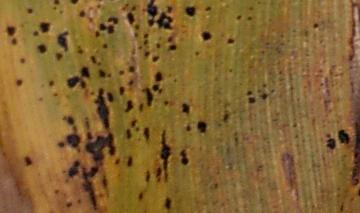tarspot: (83, 130, 117, 165), (80, 165, 100, 212), (91, 87, 111, 130), (159, 128, 172, 182), (350, 121, 360, 185), (65, 125, 83, 154), (155, 11, 174, 31), (145, 1, 159, 27), (336, 127, 350, 145), (57, 30, 69, 51), (67, 160, 80, 178), (178, 148, 190, 166), (144, 86, 154, 107), (196, 120, 208, 134), (183, 6, 197, 18), (65, 75, 79, 87), (199, 30, 212, 42), (39, 20, 50, 34), (79, 66, 91, 78), (325, 137, 336, 150), (123, 99, 134, 112), (164, 195, 172, 212), (126, 11, 135, 26), (180, 102, 191, 114), (105, 90, 115, 103), (154, 166, 162, 182), (142, 126, 150, 142), (101, 174, 109, 190), (151, 83, 163, 93), (106, 24, 116, 35), (23, 155, 33, 166), (154, 70, 163, 82), (106, 16, 118, 25), (37, 44, 46, 55), (89, 55, 98, 66), (126, 154, 133, 168), (124, 127, 132, 139), (144, 169, 151, 182), (66, 115, 76, 124), (120, 3, 130, 12), (117, 85, 125, 96), (6, 25, 14, 36), (222, 111, 229, 123), (338, 201, 345, 213), (54, 52, 63, 61), (47, 79, 56, 88), (247, 96, 257, 104), (56, 141, 66, 149), (166, 4, 173, 15), (226, 37, 235, 45), (168, 43, 177, 51), (77, 10, 86, 18), (98, 22, 107, 30), (14, 79, 23, 87), (18, 56, 26, 65), (52, 187, 61, 195), (127, 78, 135, 87), (184, 123, 191, 133), (98, 68, 105, 78), (79, 79, 86, 89), (151, 54, 158, 64), (74, 48, 84, 55), (26, 7, 34, 15), (65, 201, 73, 209), (143, 50, 151, 58), (87, 16, 95, 24), (57, 9, 65, 17), (36, 95, 44, 103), (137, 191, 144, 200), (260, 93, 267, 102), (32, 29, 39, 38), (131, 118, 138, 127), (118, 68, 125, 77), (166, 34, 173, 43), (138, 102, 144, 112), (312, 22, 320, 29), (246, 89, 254, 96), (94, 30, 101, 38), (10, 37, 17, 45), (142, 32, 149, 40), (52, 91, 59, 99), (155, 42, 161, 51), (95, 3, 102, 10), (69, 1, 81, 5), (128, 65, 134, 73), (235, 14, 241, 21), (204, 6, 211, 12), (163, 99, 169, 106), (102, 43, 108, 50), (130, 5, 137, 11), (134, 24, 140, 31), (134, 126, 140, 133), (96, 60, 102, 67), (106, 71, 112, 78), (142, 39, 149, 45), (194, 50, 200, 56), (356, 187, 360, 195), (53, 1, 61, 5), (133, 30, 137, 38), (246, 16, 251, 21)
